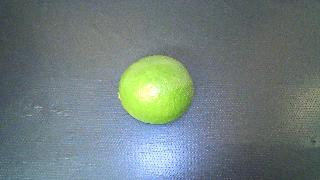EXPORTACION: (118, 55, 194, 124)
